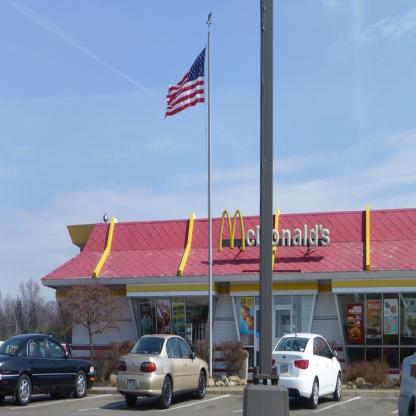Car: (112, 332, 208, 408), (1, 332, 95, 400), (270, 332, 345, 410), (400, 351, 416, 416)
